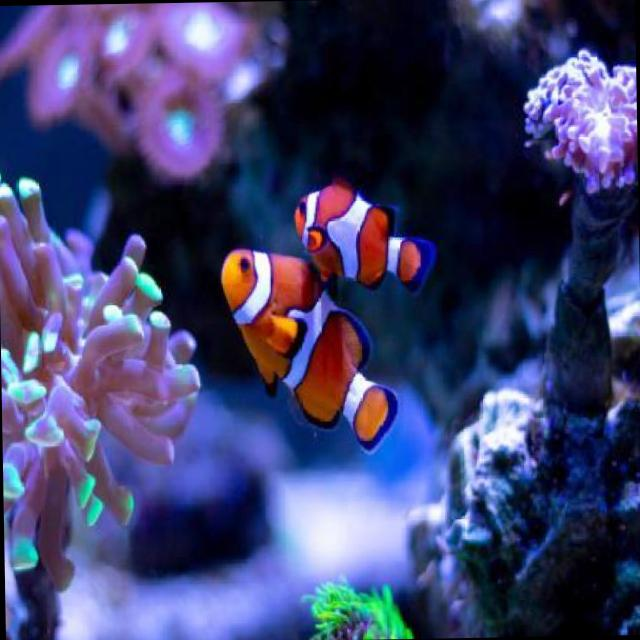ClownFish: (210, 245, 400, 454), (288, 176, 439, 293)
